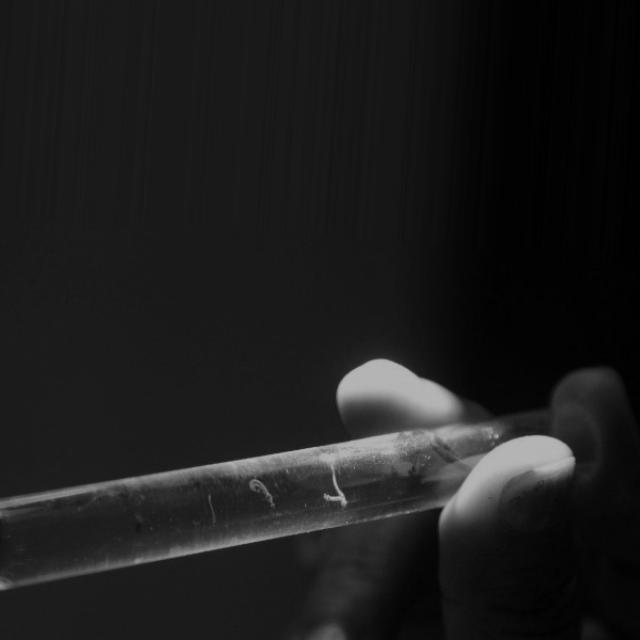larvas: (248, 481, 277, 507), (408, 448, 422, 476), (332, 467, 343, 496), (322, 494, 347, 505), (207, 494, 217, 521)
